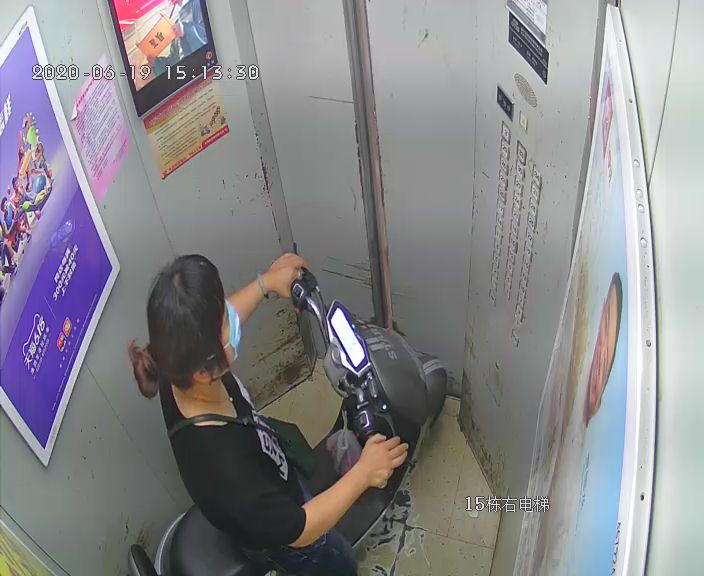Electric-bicycle: (130, 252, 446, 573)
